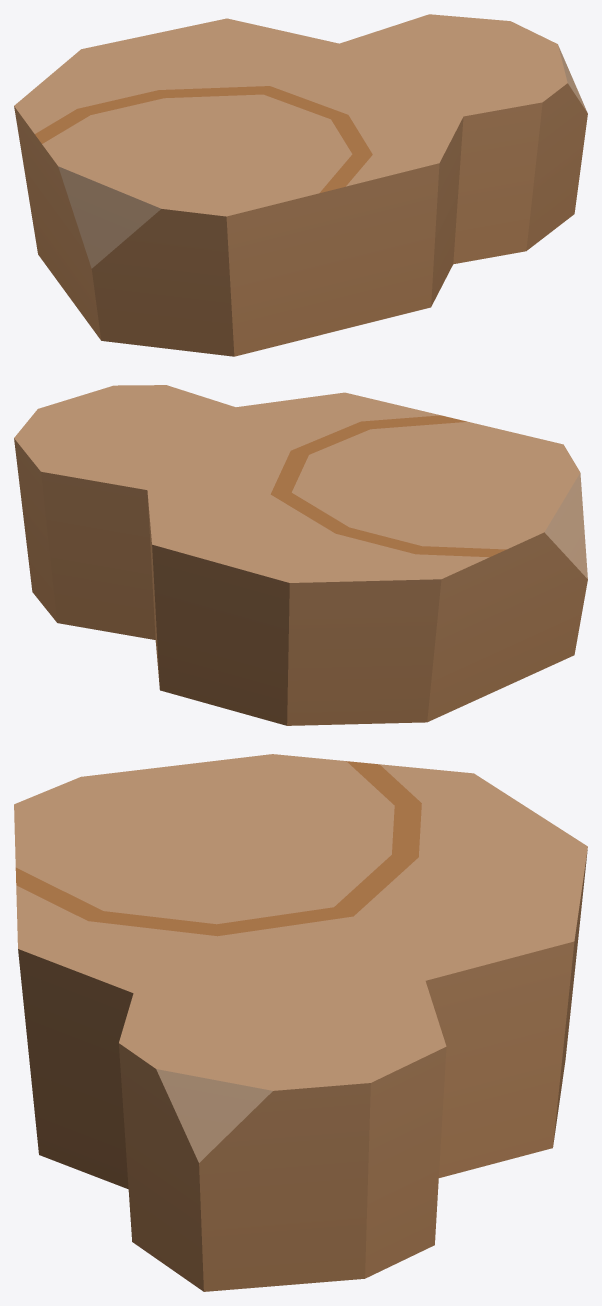
File: ancient-stone-11.glb
3 renders of one model, top to bottom at view 1: azimuth 30°, elevation 25°; view 2: azimuth 150°, elevation 25°; view 3: azimuth 270°, elevation 25°, orthographic. The views are drawn at different scales.
Parts seen in each view (by area): view 1: ancient stone 11; view 2: ancient stone 11; view 3: ancient stone 11.
Part boxes in pixels (bbox=[...]): ancient stone 11: bbox=[14, 14, 587, 356]; ancient stone 11: bbox=[14, 385, 587, 725]; ancient stone 11: bbox=[14, 754, 587, 1291].
Size of the model in its own units: 6.64 by 1.87 by 4.7.
1 material, 1 textured.
